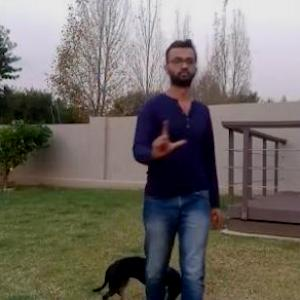land_hand: (149, 112, 189, 162)
